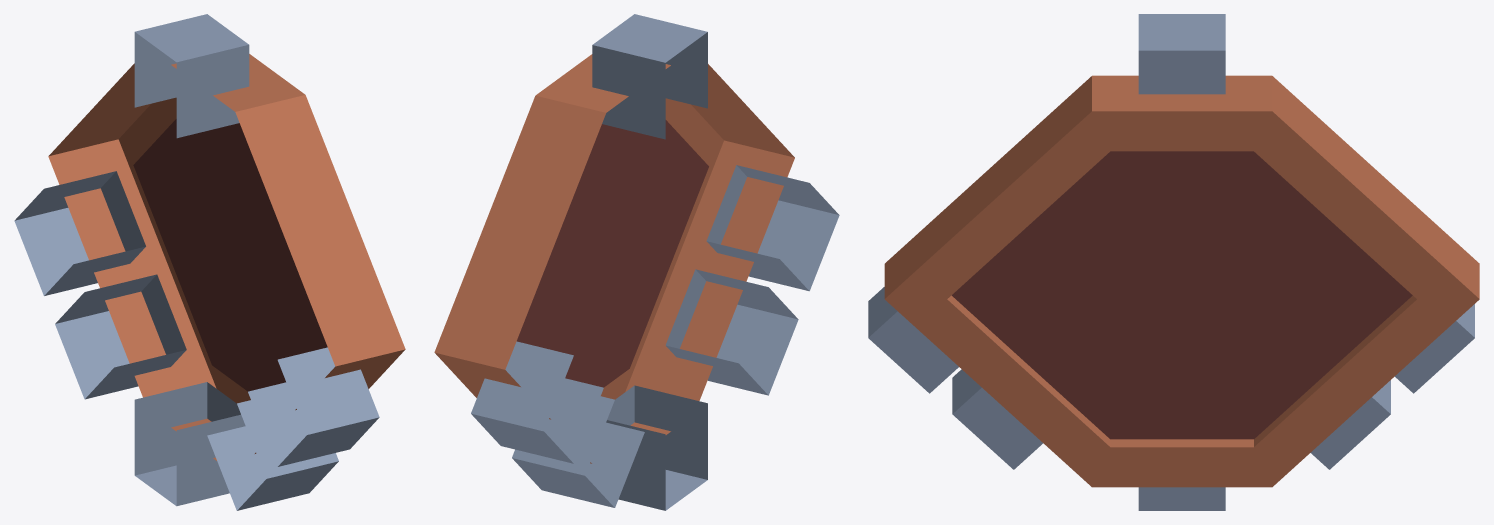
File: button_base.fbx
3 renders of one model, left to right at view 1: azimuth 30°, elevation 25°; view 2: azimuth 150°, elevation 25°; view 3: azimuth 270°, elevation 25°, orthographic. The views are drawn at different scales.
Parts seen in each view (by area): view 1: Cube.014; view 2: Cube.014; view 3: Cube.014.
Boxes of the visible parts, box(x1,y1,x2,y2) form: Cube.014: box(14, 14, 405, 510); Cube.014: box(434, 14, 839, 510); Cube.014: box(868, 14, 1479, 510).
Size of the model in its own units: 60.57 by 241 by 291.
